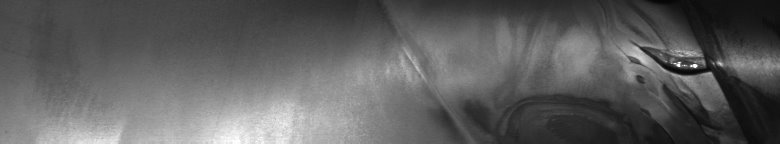ke: (627, 0, 735, 144)
